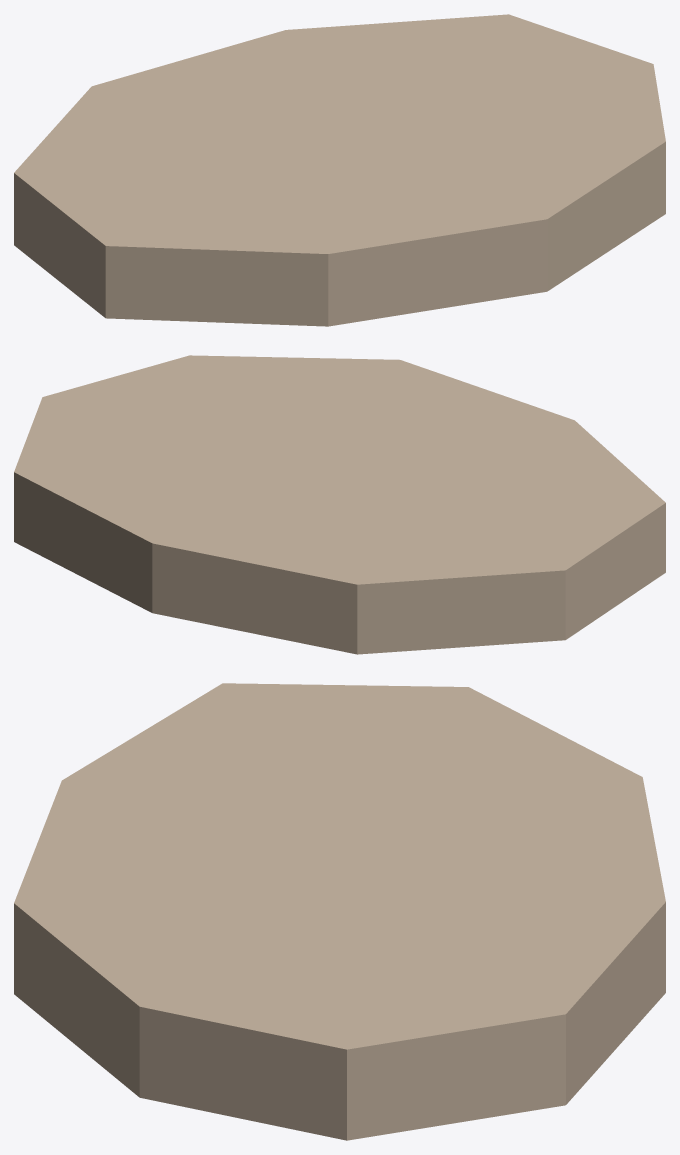
File: stone_path_3.glb
3 views of the same model, one above another, from view 1: azimuth 30°, elevation 25°; view 2: azimuth 150°, elevation 25°; view 3: azimuth 270°, elevation 25° (orthographic). The views are drawn at different scales.
Visible parts, largest first — view 1: stone_path_3; view 2: stone_path_3; view 3: stone_path_3.
Part boxes in pixels (<box>): stone_path_3: <box>14,14,665,326</box>; stone_path_3: <box>14,355,665,654</box>; stone_path_3: <box>14,683,665,1140</box>.
Bounding box in the file's own units: 0.9492 × 0.11 × 0.7139.
